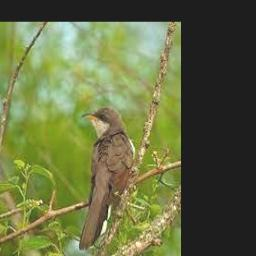Cuckoo: (78, 107, 136, 249)
